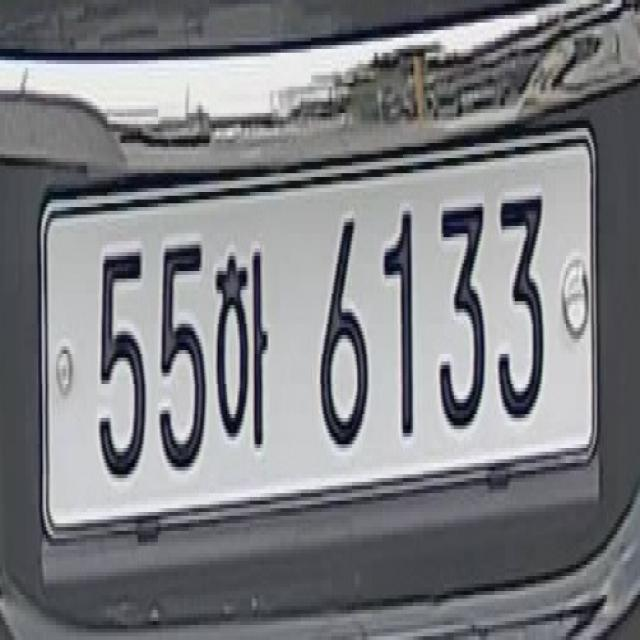1: (376, 185, 424, 453)
3: (430, 192, 490, 435), (494, 179, 549, 431)
5: (93, 236, 149, 482), (158, 222, 209, 480)
6: (316, 188, 372, 450)
ha: (210, 223, 273, 470)
license_plate: (34, 102, 613, 618)
